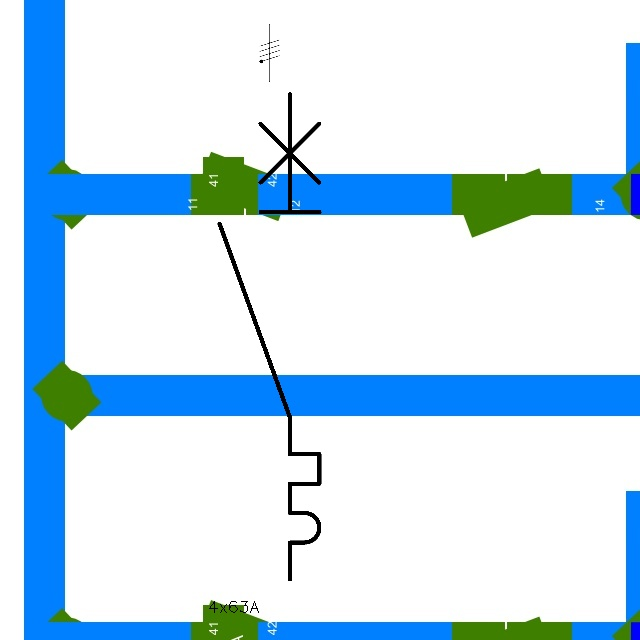interruptor_termomagnetico: (207, 81, 332, 591)
